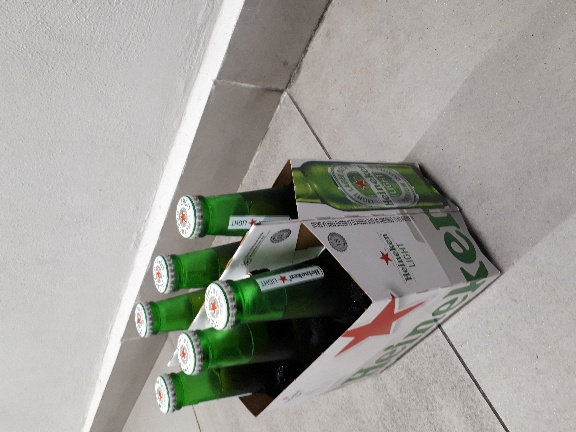HLB: (219, 116, 311, 150), (271, 158, 308, 209), (179, 186, 237, 218), (150, 195, 177, 244), (128, 233, 148, 278), (104, 269, 131, 302), (90, 214, 116, 246), (127, 133, 145, 175), (107, 183, 129, 214)
